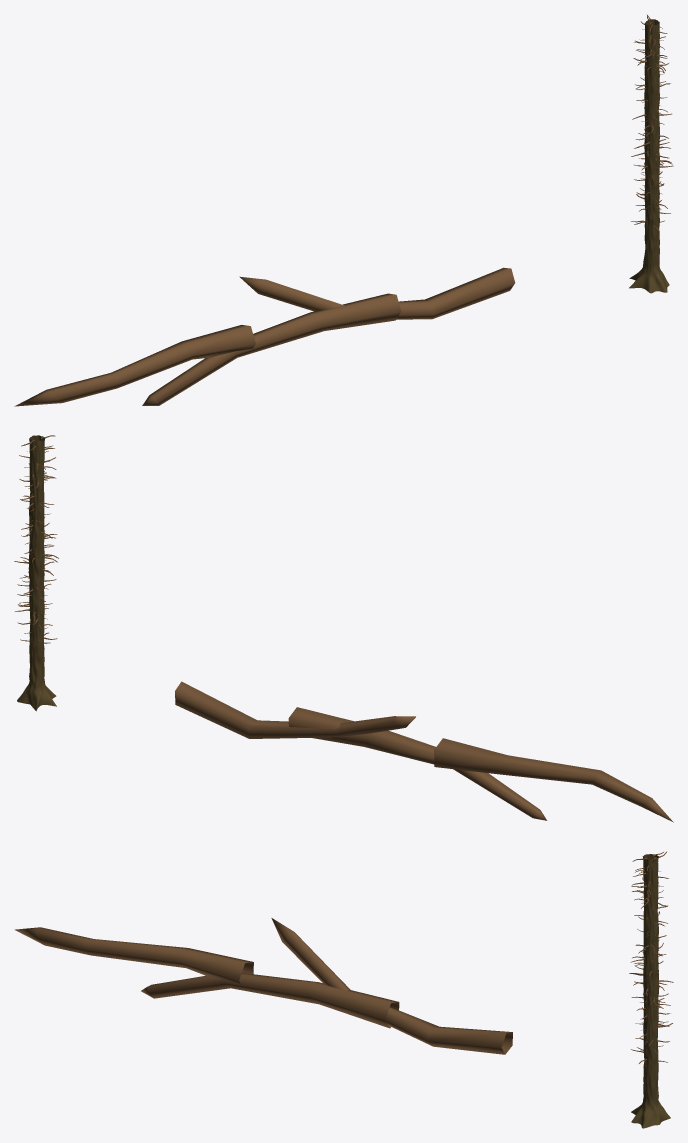
The model's file is tree.fbx.
3 views of the same model, one above another, from view 1: azimuth 30°, elevation 25°; view 2: azimuth 150°, elevation 25°; view 3: azimuth 330°, elevation 25° (orthographic).
Parts seen in each view (by area): view 1: Twig2, Twig3, Cylinder.002, Twig1; view 2: Twig3, Cylinder.002, Twig1, Twig2; view 3: Twig2, Cylinder.002, Twig3, Twig1.
Part boxes in pixels (x1,y1,x2,y2): Twig2: (142, 293, 401, 405); Twig3: (14, 325, 255, 406); Cylinder.002: (629, 19, 669, 293); Twig1: (239, 267, 515, 319); Twig3: (434, 738, 673, 822); Cylinder.002: (17, 435, 56, 711); Twig1: (175, 681, 415, 738); Twig2: (288, 707, 547, 820); Twig2: (141, 973, 399, 1028); Cylinder.002: (631, 854, 670, 1128); Twig3: (14, 927, 253, 984); Twig1: (271, 918, 512, 1054).
Bounding box in the file's own units: 16.74 × 6.41 × 1.45.
